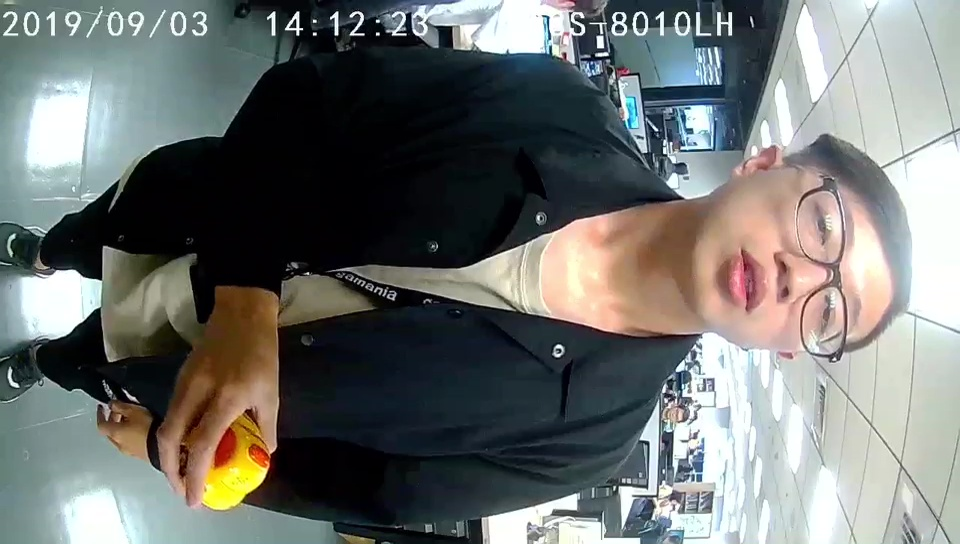car: (206, 410, 268, 510)
